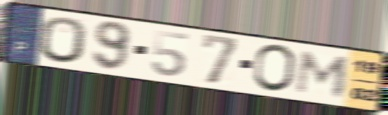5: (149, 28, 190, 78)
7: (201, 32, 240, 88)
9: (90, 19, 132, 74)
M: (292, 49, 353, 99)
O: (39, 15, 89, 65), (251, 42, 298, 94)
